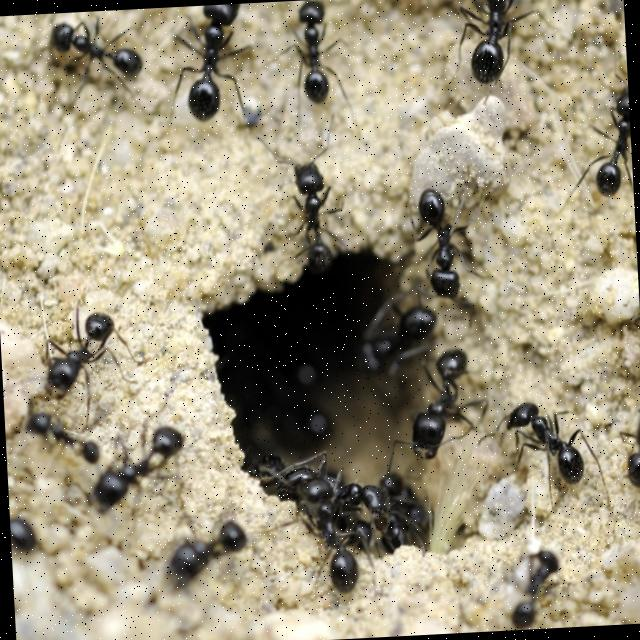Minor: (255, 114, 348, 282), (478, 398, 611, 514), (382, 347, 491, 474), (404, 166, 481, 332)
